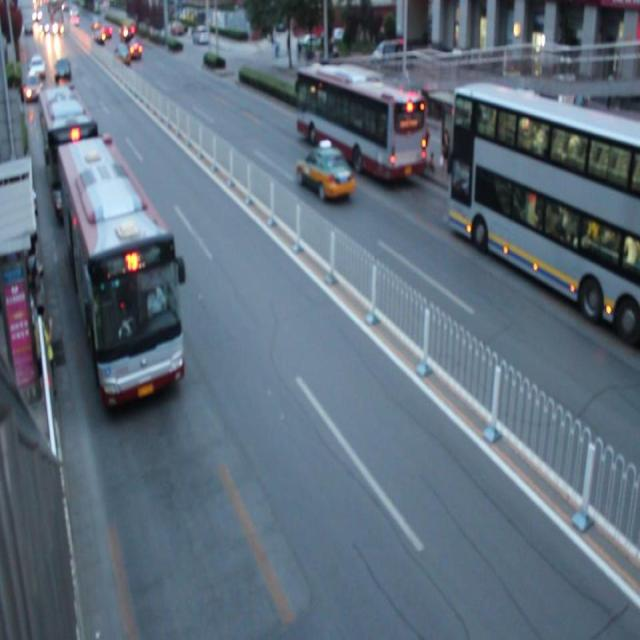car: (295, 145, 353, 202)
van: (452, 86, 640, 324), (58, 142, 182, 396), (297, 67, 426, 181), (36, 83, 98, 209)
